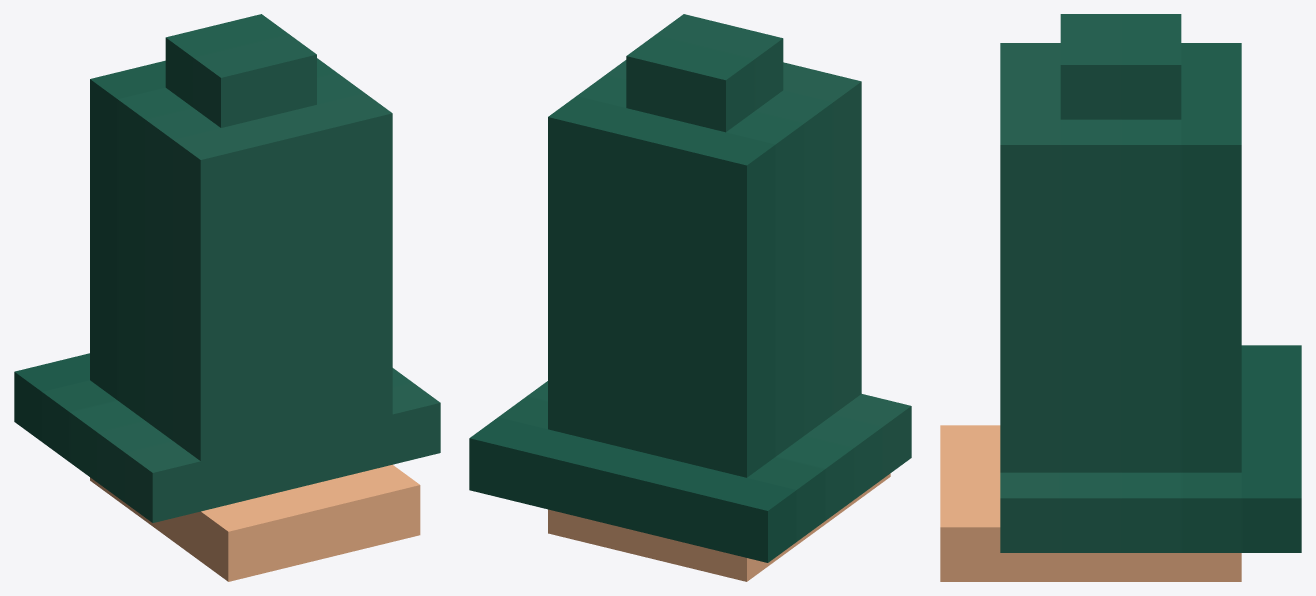
File: Knee031.fbx
The picture shows the model from 3 angles, left to right: view 1: azimuth 30°, elevation 25°; view 2: azimuth 150°, elevation 25°; view 3: azimuth 270°, elevation 25°; orthographic projection. The views are drawn at different scales.
Parts seen in each view (by area): view 1: Knee031; view 2: Knee031; view 3: Knee031.
Boxes of the visible parts, x1,y1,x2,y2 form: Knee031: (14,14,440,581); Knee031: (469,14,911,581); Knee031: (940,14,1301,581).
Size of the model in its own units: 6 by 9 by 6.
